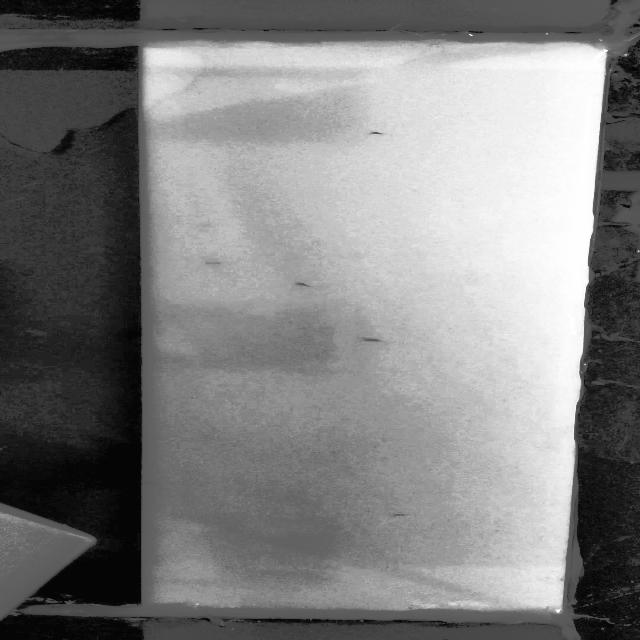shrimp: (356, 332, 398, 348), (199, 251, 230, 268), (389, 512, 424, 522), (137, 477, 172, 487), (292, 280, 320, 291), (360, 130, 397, 138)
